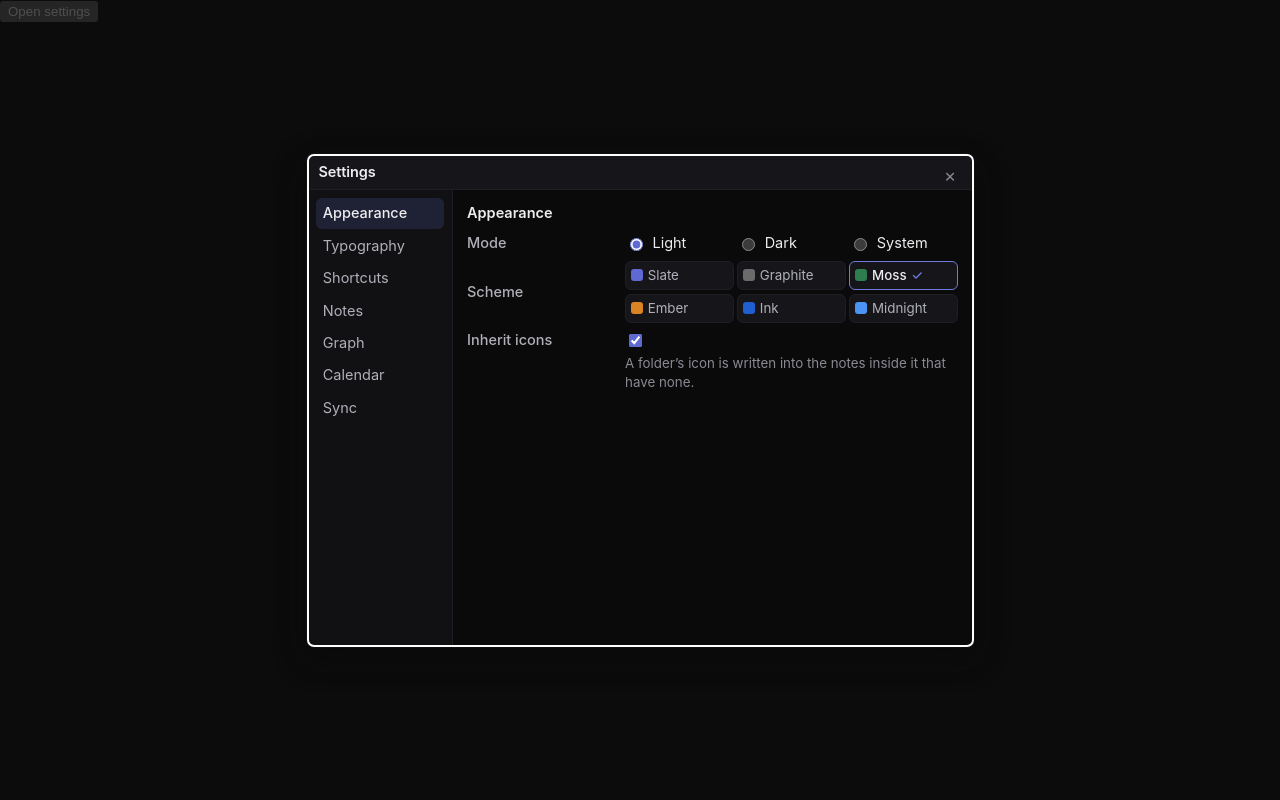
Test: capturing a shortcut › cancels capture on Escape instead of closing the dialog
Click the button "Shortcuts" at (380, 278), box top-left (316, 263), bottom-right (444, 294)
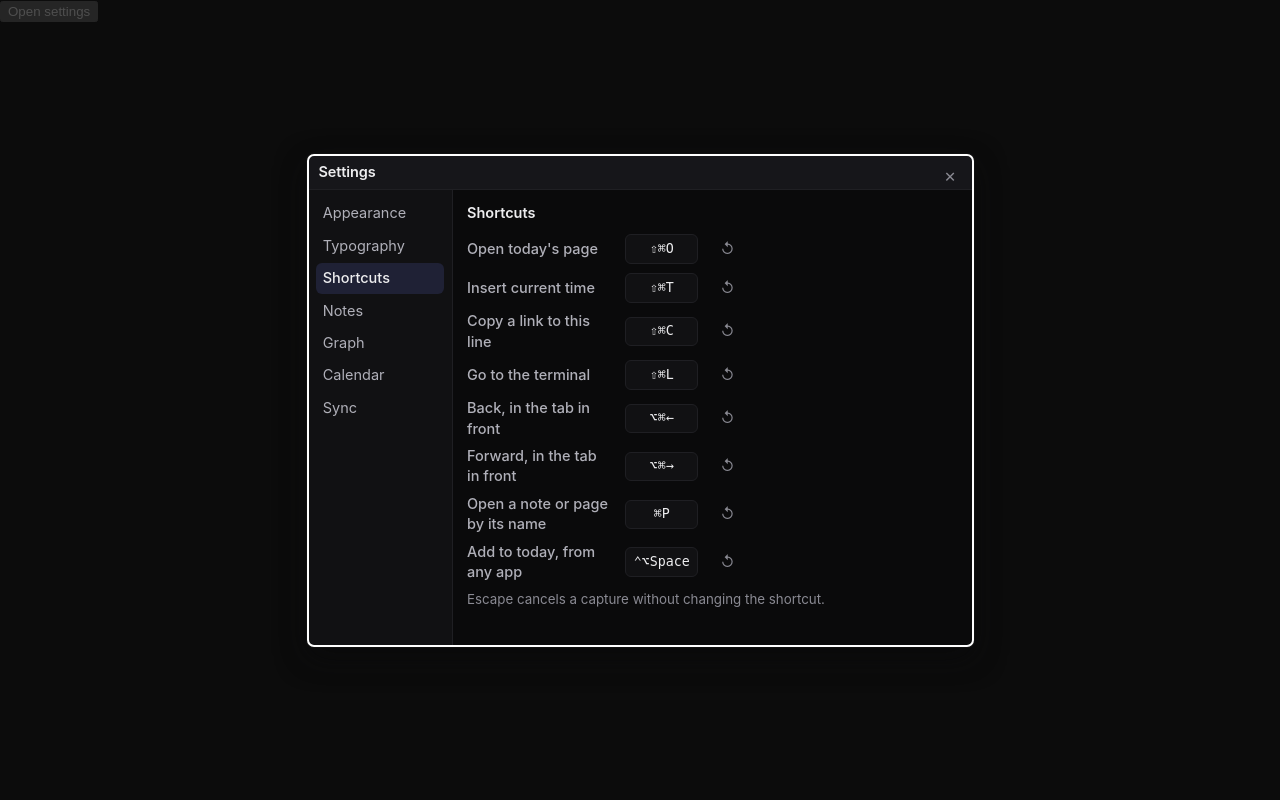
Click the button named "Open today's page" at (662, 249), box top-left (625, 234), bottom-right (698, 264)
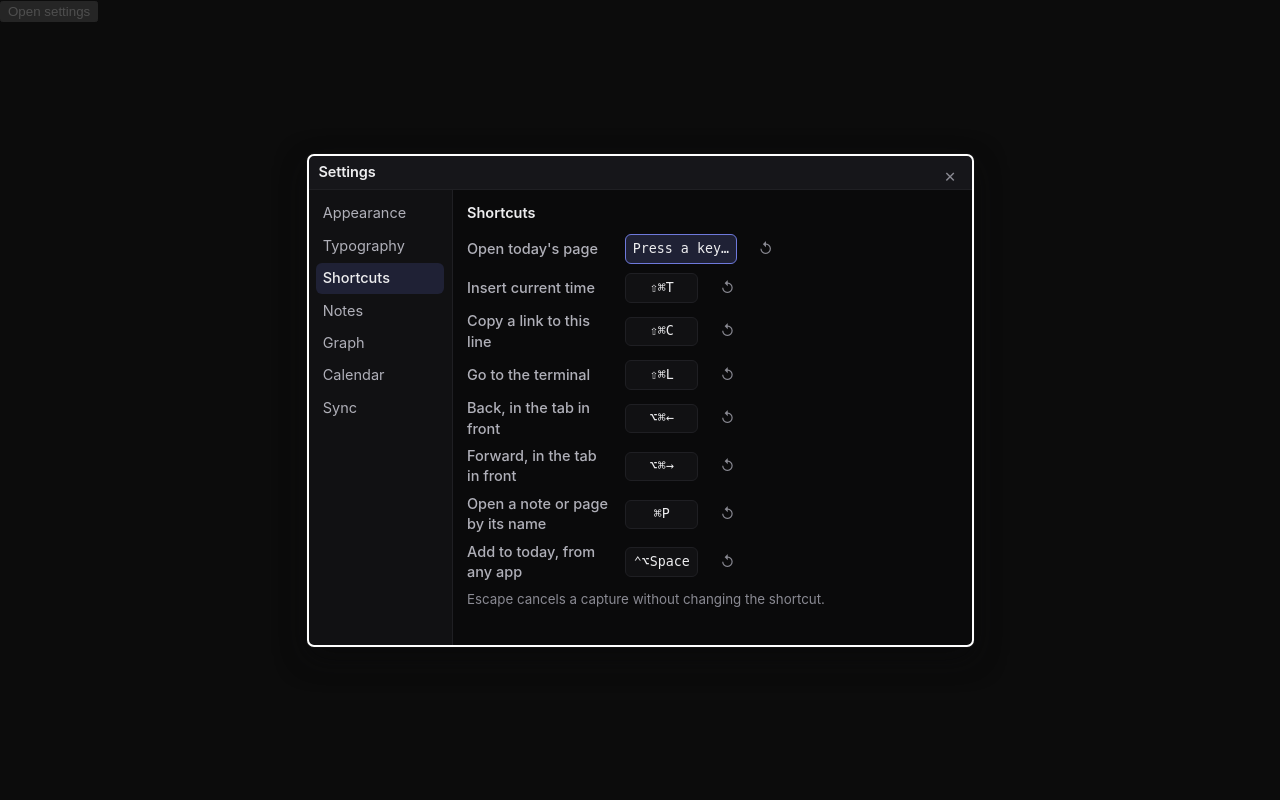
Check: the button named "Open today's page" has class "capturing", box top-left (625, 234), bottom-right (737, 264)
Press Escape in the dialog, box top-left (306, 154), bottom-right (974, 646)
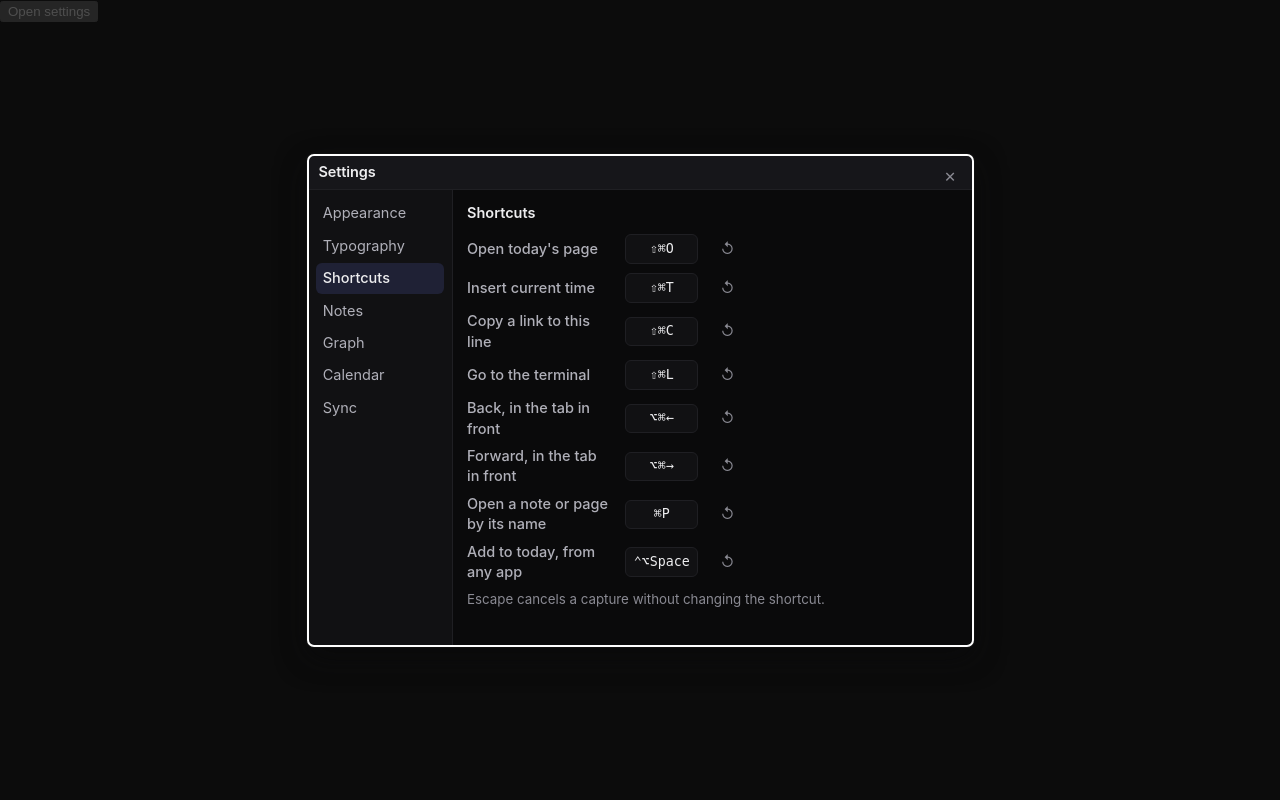
Check: the button named "Open today's page" reads "⇧⌘O", box top-left (625, 234), bottom-right (698, 264)
# And Escape closes again once nothing is capturing.
Press Escape in the dialog, box top-left (306, 154), bottom-right (974, 646)
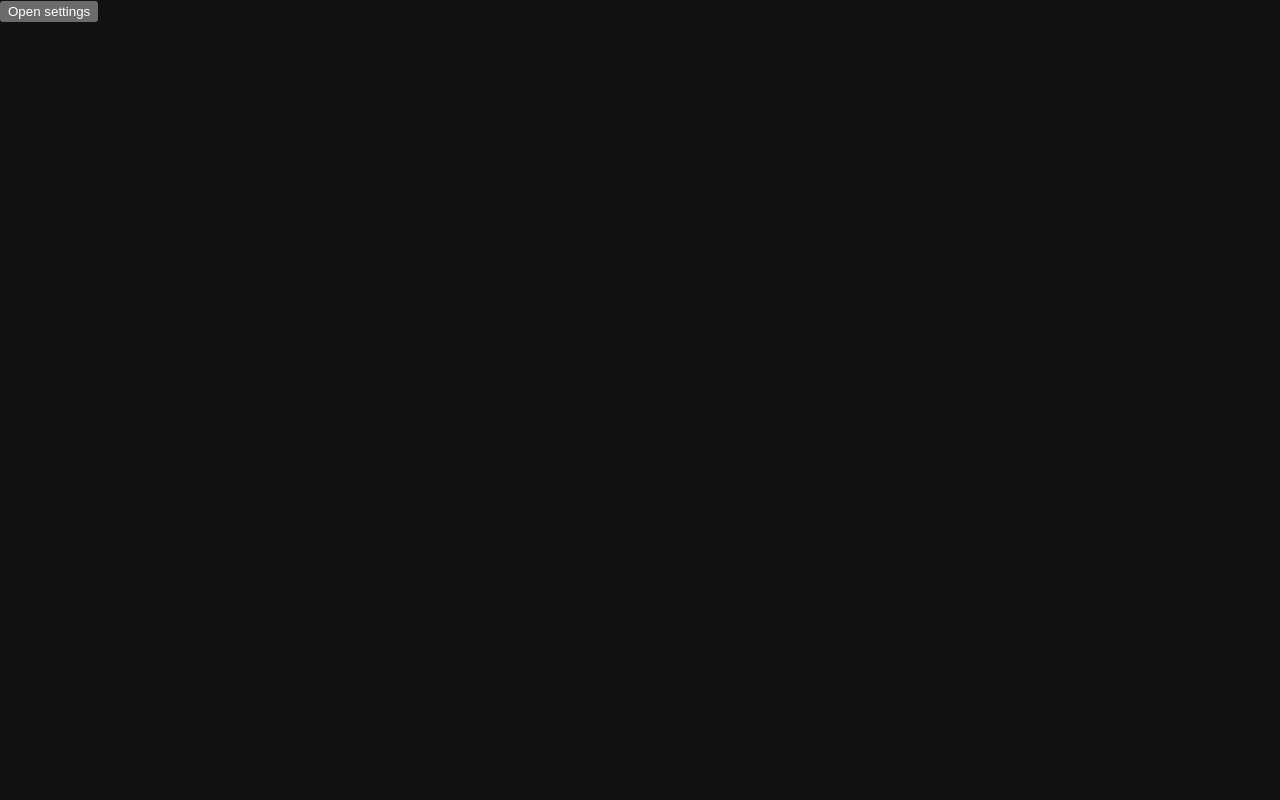
Check: the dialog is gone
